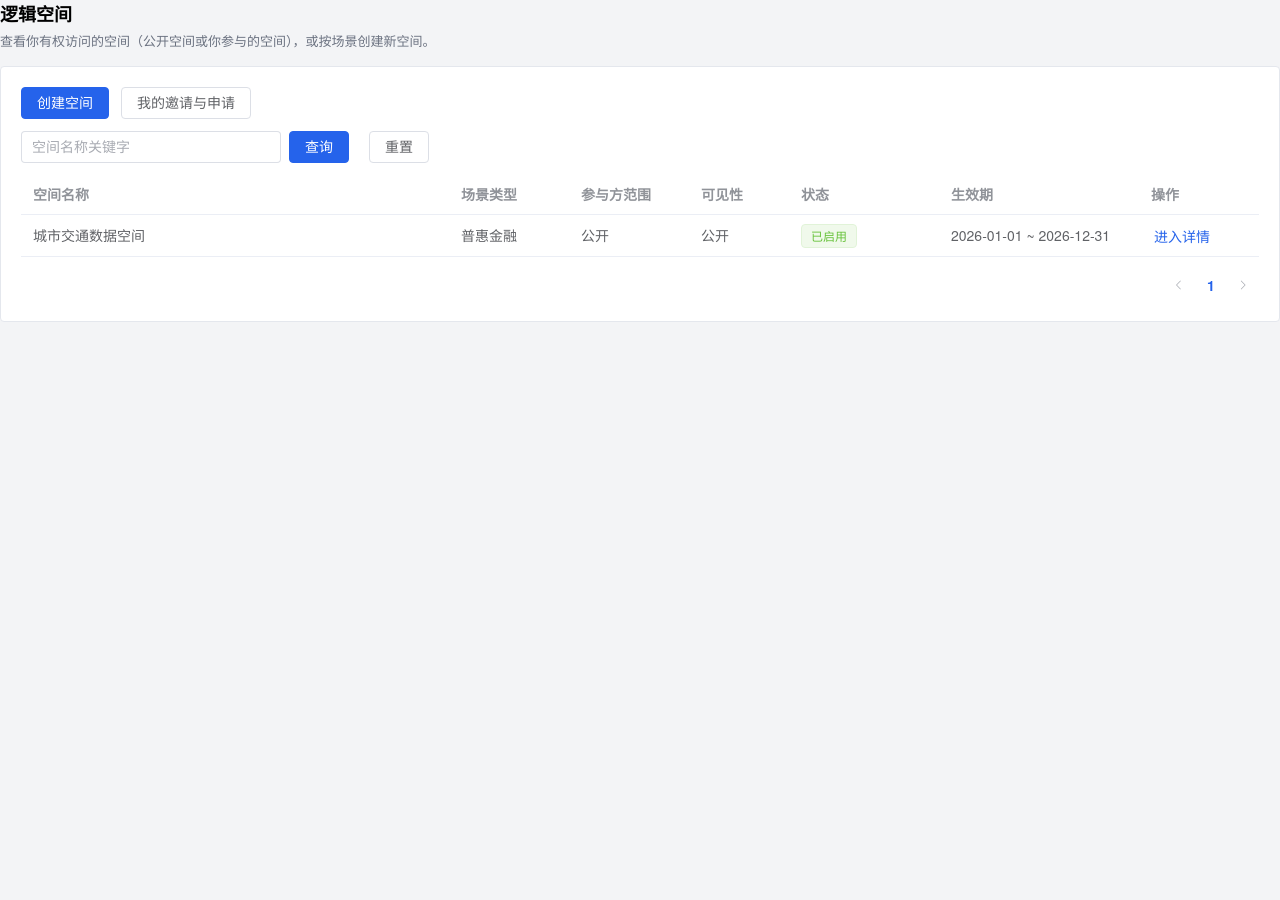
Test case: 创建空间（T7~T9） › 主体未入驻被拒（1006C0001）：原样展示后端统一业务文案（T8）
Click the button with class "create-btn" at (65, 103), box [21,87,109,119]
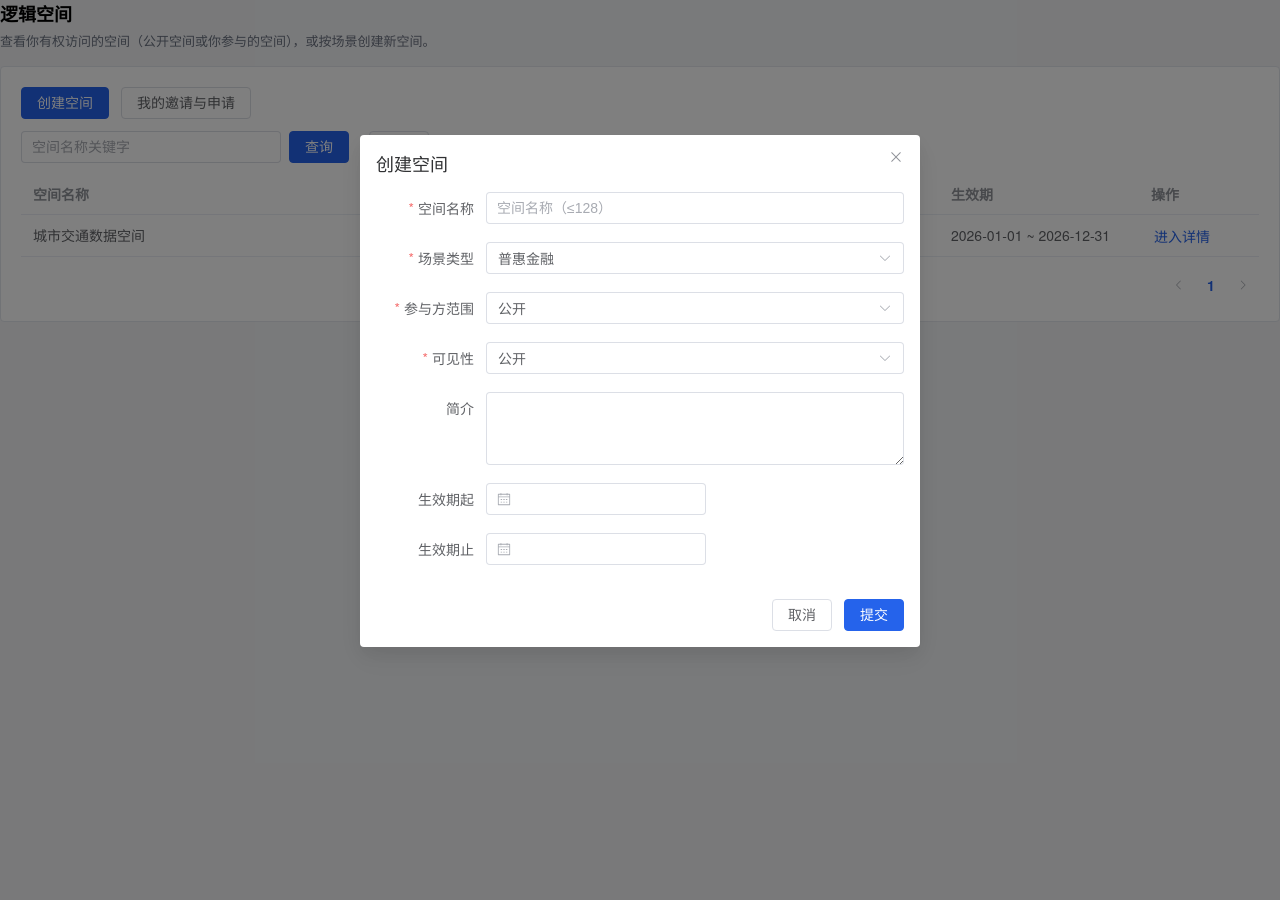
Type "新场景空间" into the field labelled "空间名称" at (695, 208), box [497,193,893,223]
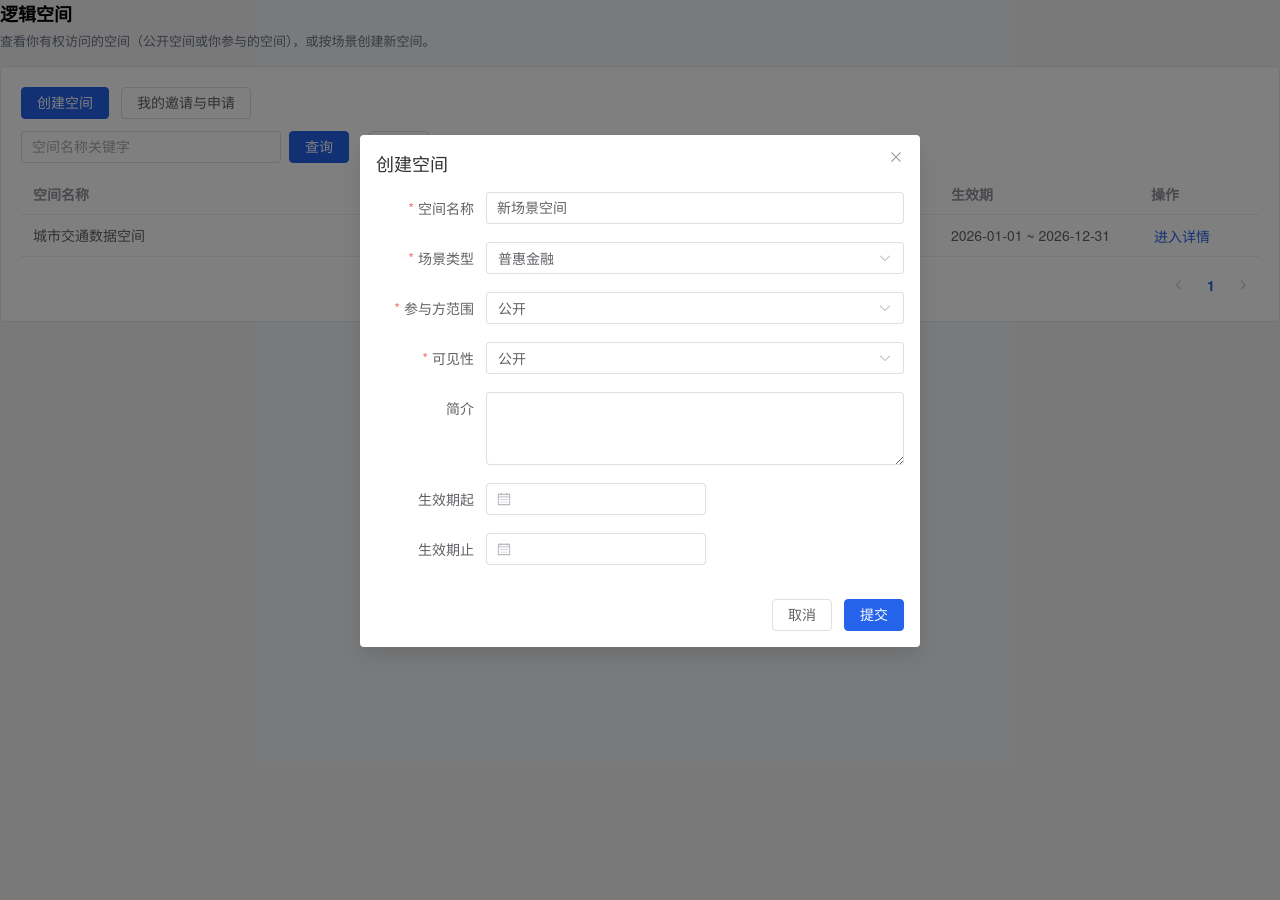
Click the button with class "create-submit" at (874, 615), box [844,599,904,631]
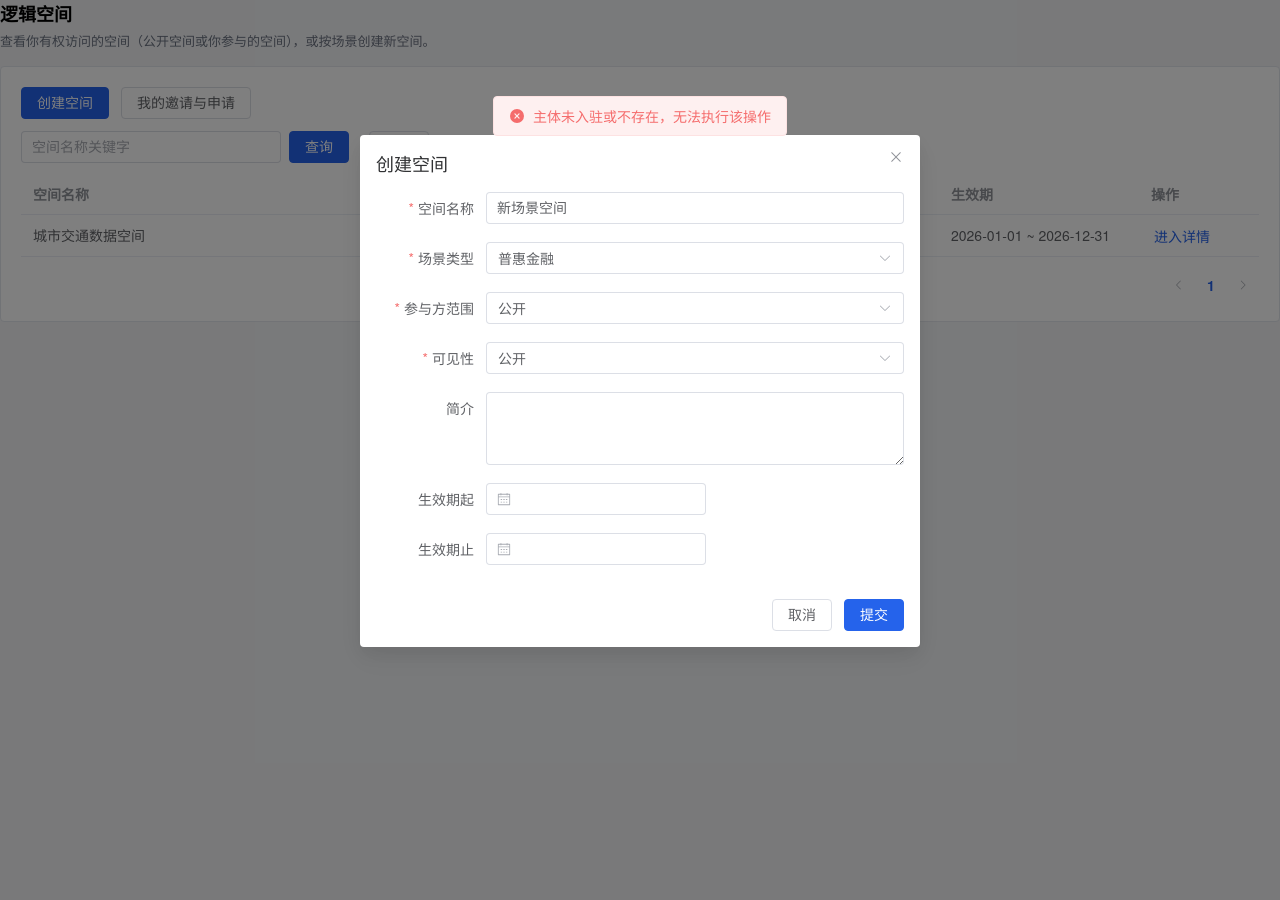
Check: the text "主体未入驻或不存在，无法执行该操作" is shown, box [533,109,771,123]
